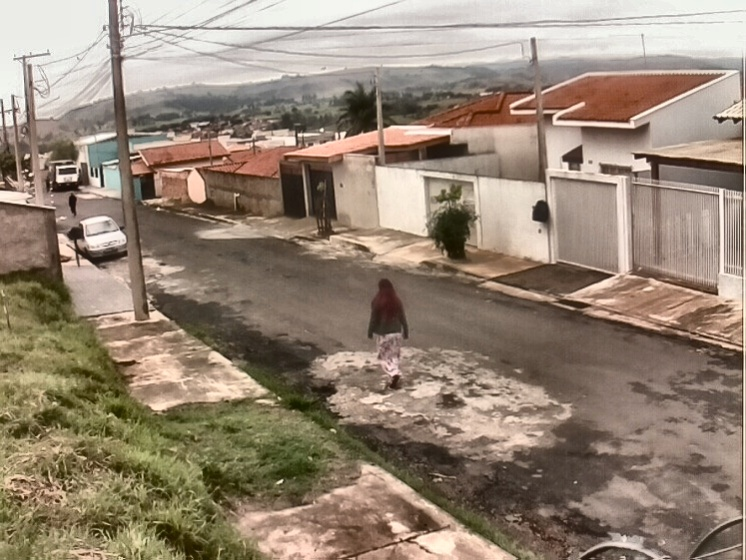person: (365, 279, 410, 391), (68, 193, 77, 215)
